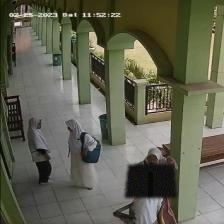Cadar_Niqab: (125, 147, 176, 197)
